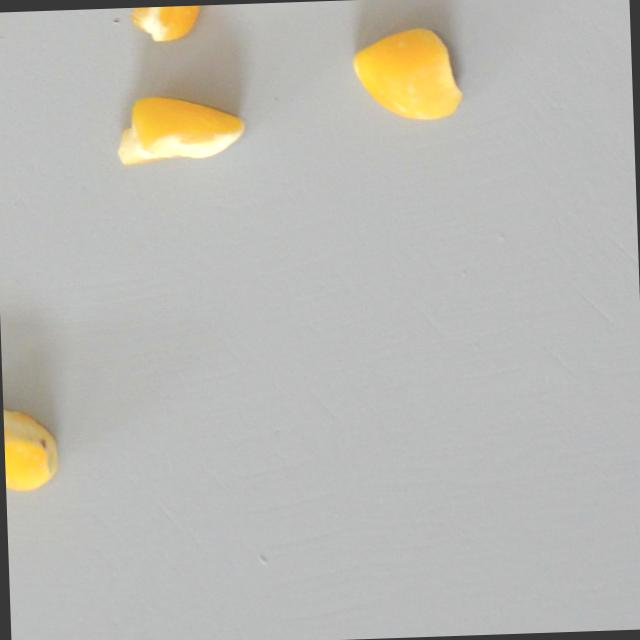estandar: (341, 20, 465, 126), (112, 84, 251, 175), (131, 3, 220, 41)
punto_negro: (2, 389, 61, 495)
